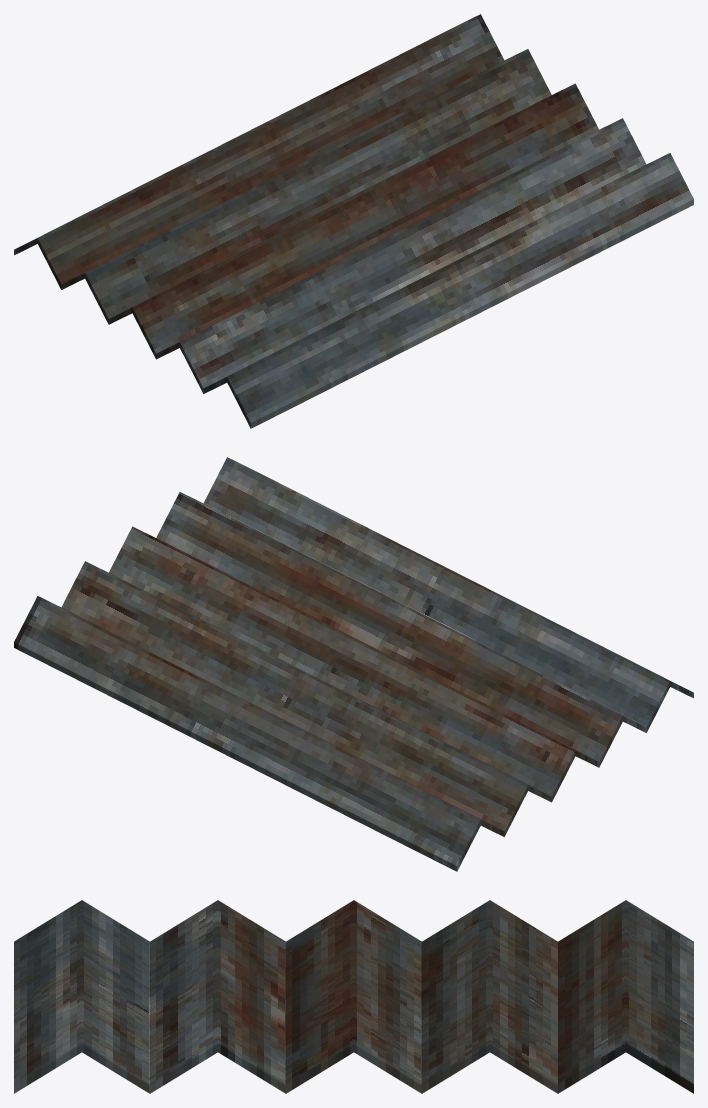
The model's file is roof_hr_3_side_2_angle_corner_2.glb.
3 renders of one model, top to bottom at view 1: azimuth 30°, elevation 25°; view 2: azimuth 150°, elevation 25°; view 3: azimuth 270°, elevation 25°, orthographic. The views are drawn at different scales.
Visible parts, largest first — view 1: roof_hr_3_side_2_angle_corner_2; view 2: roof_hr_3_side_2_angle_corner_2; view 3: roof_hr_3_side_2_angle_corner_2.
Boxes of the visible parts, x1,y1,x2,y2 form: roof_hr_3_side_2_angle_corner_2: (14,14,693,428); roof_hr_3_side_2_angle_corner_2: (14,457,693,871); roof_hr_3_side_2_angle_corner_2: (14,900,693,1093).
Bounding box in the file's own units: 0.8 × 0.26 × 0.7407.
Materials: 1 (1 with a texture image).
